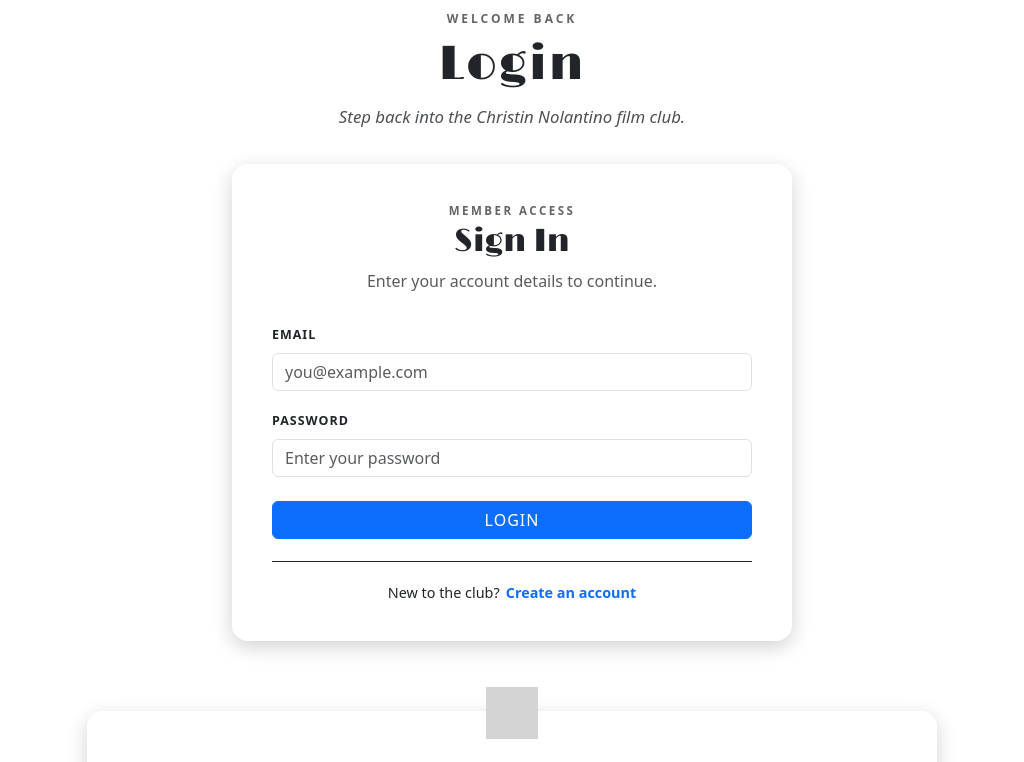
Scenario: Login Page › logs in a user successfully
This screenshot has width=1024, height=762.
In the field labelled "Email": (512, 372) [272,353,752,391], type "test@example.com"
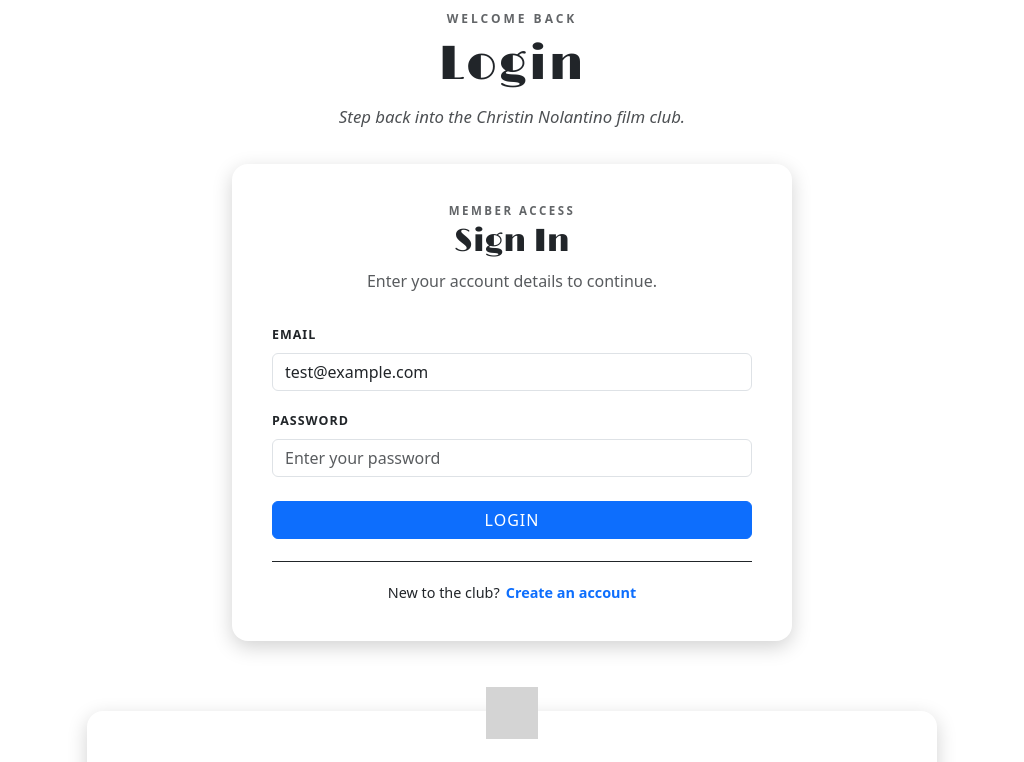
In the password field labelled "Password": (512, 458) [272,439,752,477], type "password123"
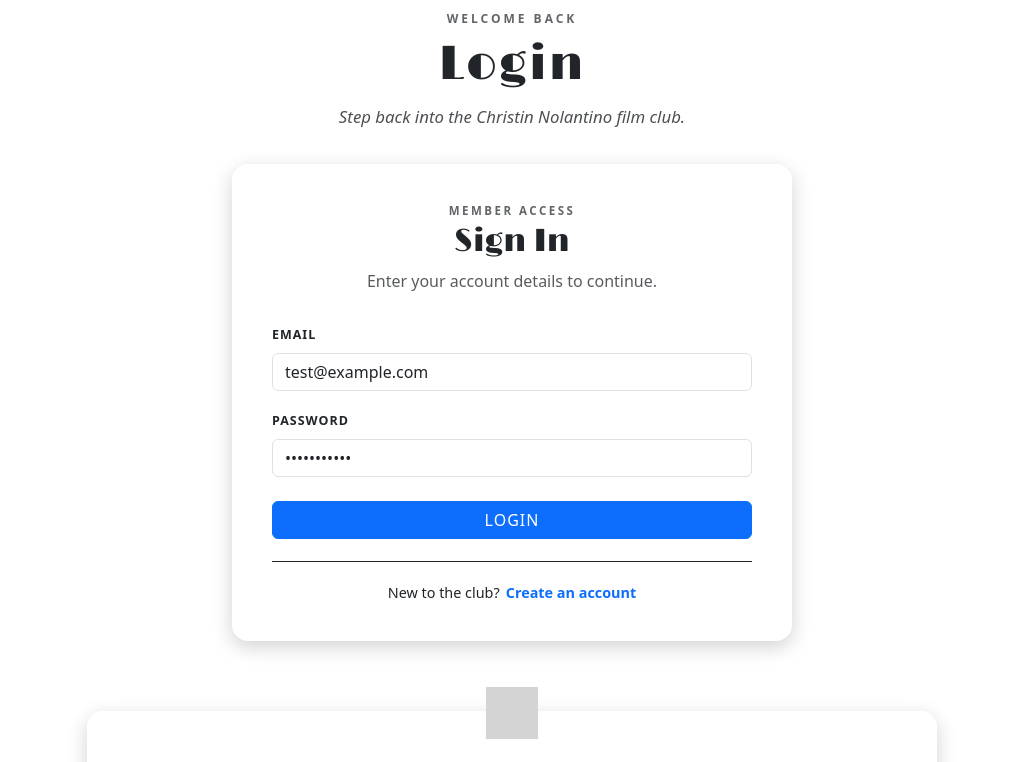
Click the button "Login": (512, 520) [272,501,752,539]
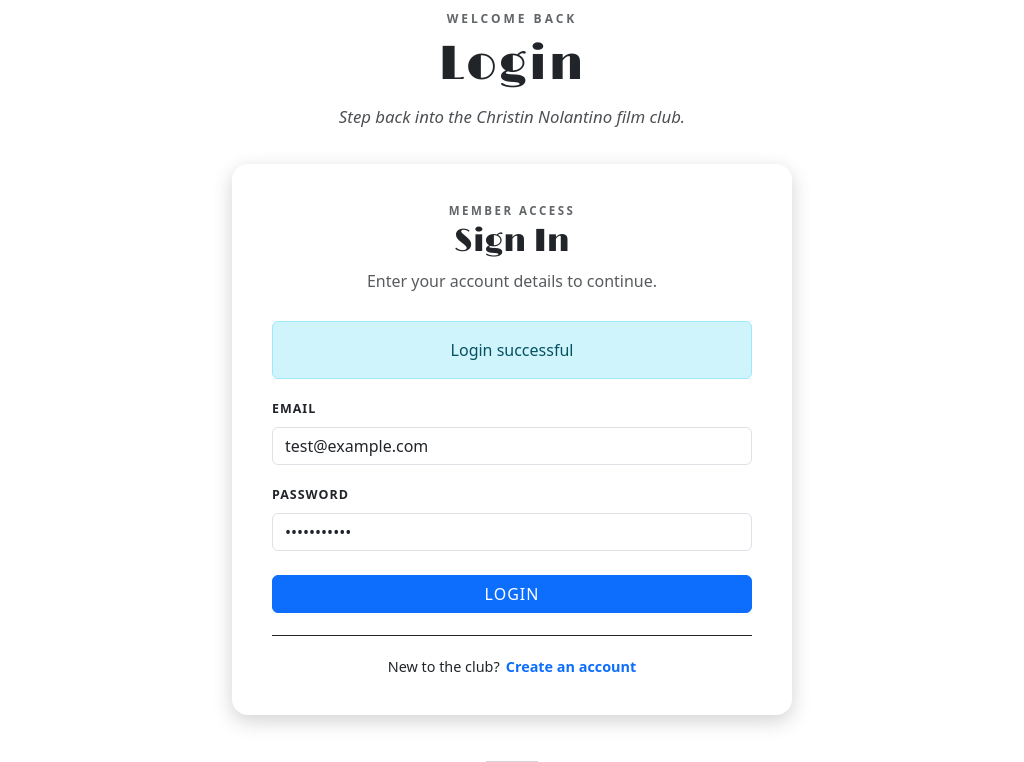
Now the text "Login successful" is shown, box [272,321,752,379]
